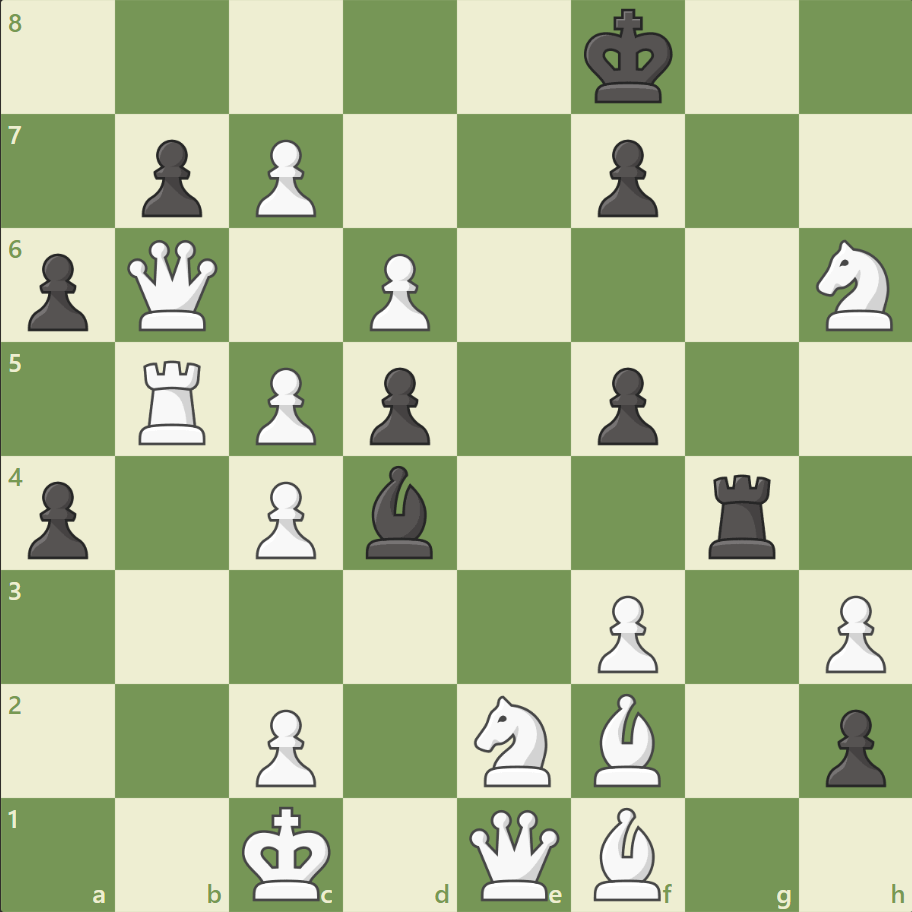B: (585, 687, 669, 790), (585, 801, 669, 904)
K: (238, 798, 338, 906)
N: (806, 234, 903, 337), (465, 688, 562, 791)
P: (247, 132, 322, 223), (247, 359, 322, 450), (247, 473, 322, 564), (247, 700, 322, 791), (361, 246, 435, 337), (588, 586, 662, 677), (815, 586, 889, 677)
Q: (124, 236, 223, 335), (464, 804, 563, 903)
R: (133, 352, 215, 449)
b: (358, 460, 442, 563)
k: (579, 4, 679, 112)
p: (133, 132, 208, 223), (20, 246, 95, 337), (20, 473, 95, 564), (588, 132, 662, 223), (361, 359, 435, 450), (588, 359, 662, 450), (815, 700, 889, 791)
r: (700, 466, 783, 563)
